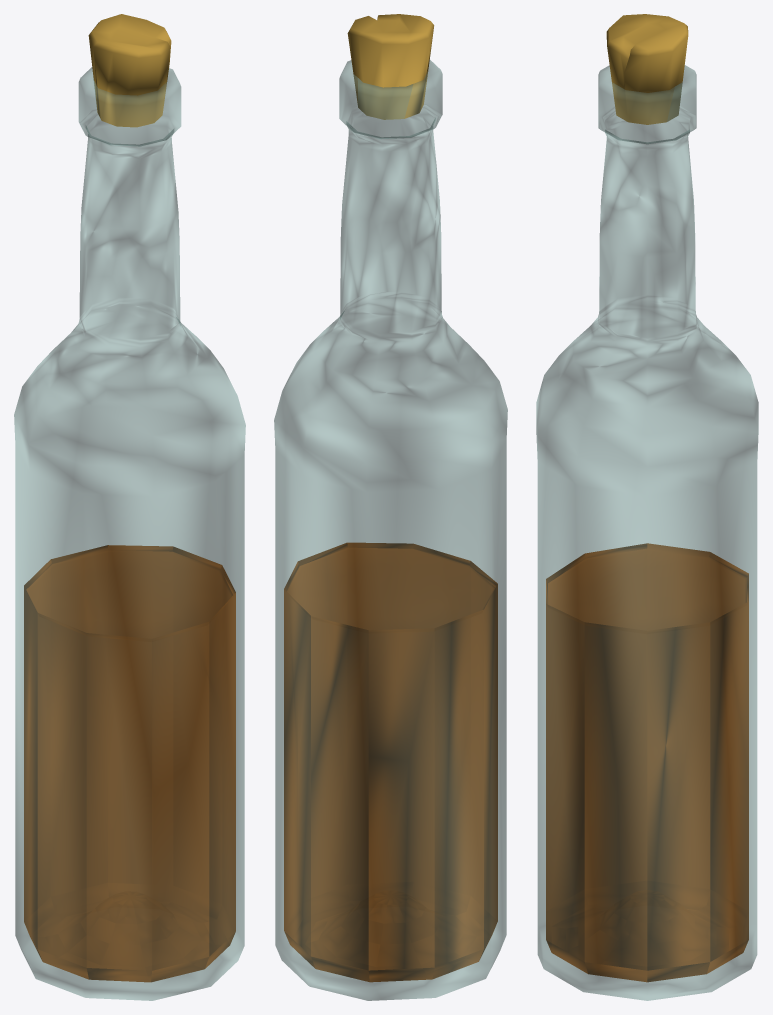
The model's file is Prop_Bottle.fbx.
The picture shows the model from 3 angles, left to right: view 1: azimuth 30°, elevation 25°; view 2: azimuth 150°, elevation 25°; view 3: azimuth 270°, elevation 25°; orthographic projection.
Visible parts, largest first — view 1: Whisky_Bottle, Whisky_Liquid; view 2: Whisky_Bottle, Whisky_Liquid; view 3: Whisky_Bottle, Whisky_Liquid.
Boxes of the visible parts, x1=… form: Whisky_Bottle: x1=14, y1=14, x2=245, y2=1000; Whisky_Liquid: x1=24, y1=545, x2=235, y2=982; Whisky_Bottle: x1=274, y1=14, x2=507, y2=1000; Whisky_Liquid: x1=284, y1=542, x2=497, y2=982; Whisky_Bottle: x1=536, y1=14, x2=758, y2=1000; Whisky_Liquid: x1=546, y1=543, x2=748, y2=982.
Size of the model in its own units: 6.67 by 29.24 by 6.35.
